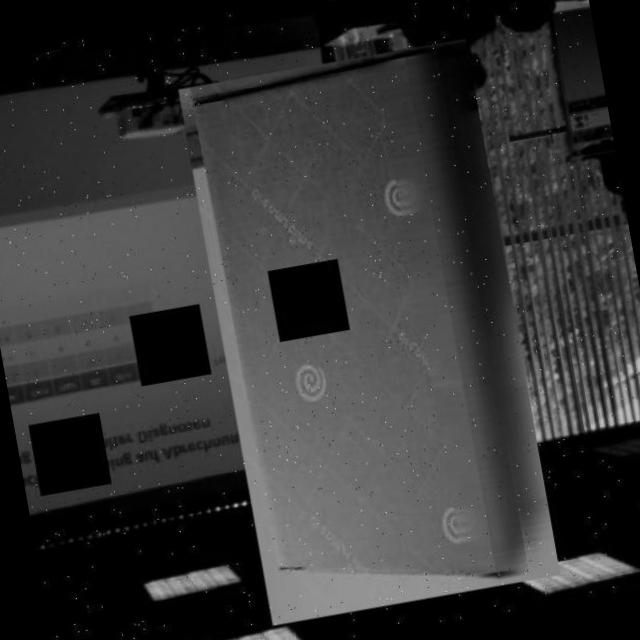box: (173, 28, 566, 633)
